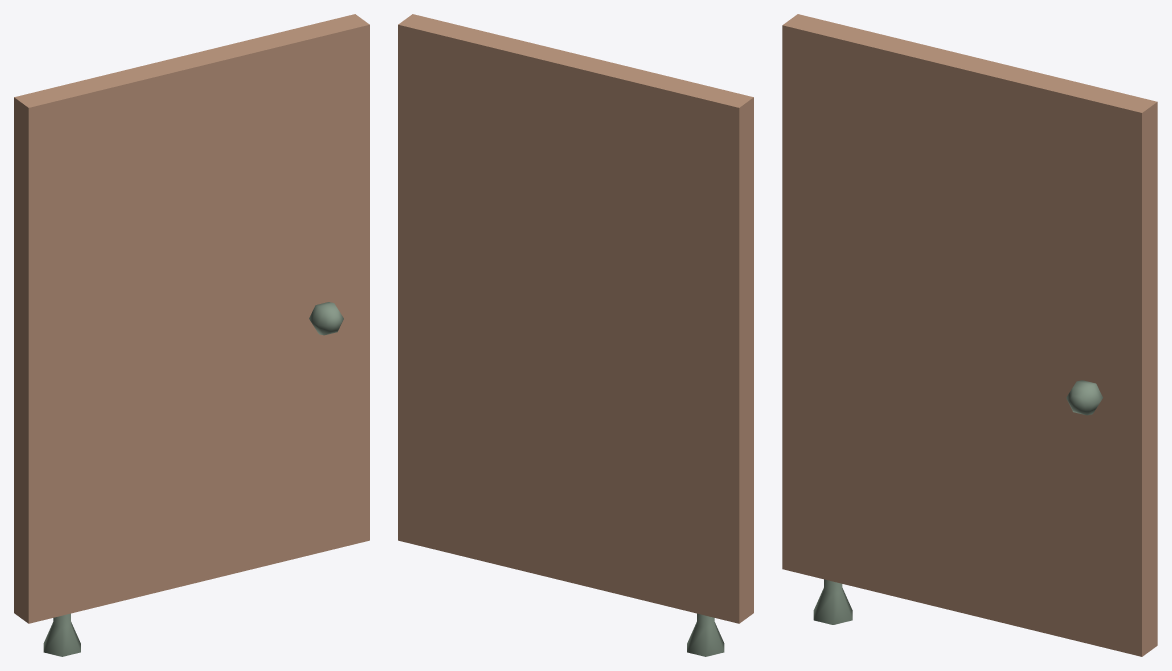
The model's file is toiletDoor.fbx.
3 renders of one model, left to right at view 1: azimuth 30°, elevation 25°; view 2: azimuth 150°, elevation 25°; view 3: azimuth 330°, elevation 25°, orthographic. The views are drawn at different scales.
Visible parts, largest first — view 1: ToiletDoor; view 2: ToiletDoor; view 3: ToiletDoor.
Boxes of the visible parts, x1,y1,x2,y2 form: ToiletDoor: (14, 14, 369, 656); ToiletDoor: (398, 14, 753, 656); ToiletDoor: (782, 14, 1157, 656).
Size of the model in its own units: 1.85 by 2.88 by 0.2907.
